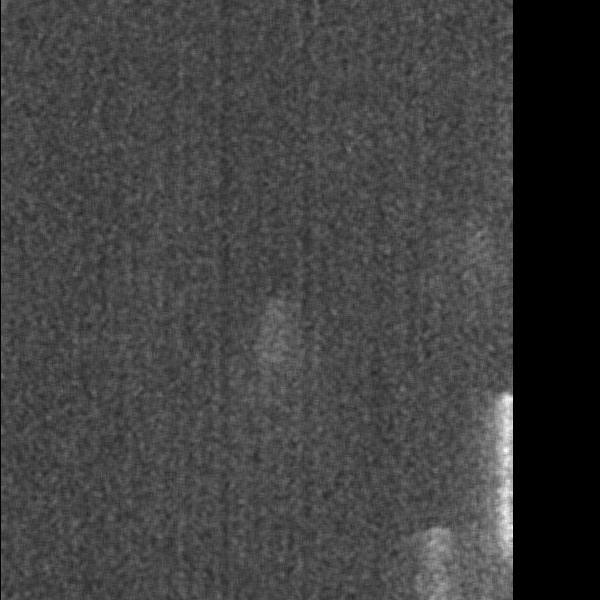spark: (495, 379, 516, 595), (252, 310, 284, 396)
